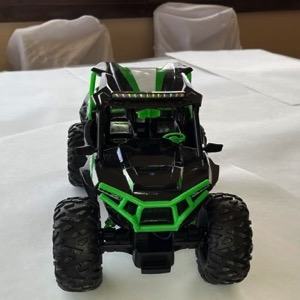polaris: (52, 60, 253, 291)
